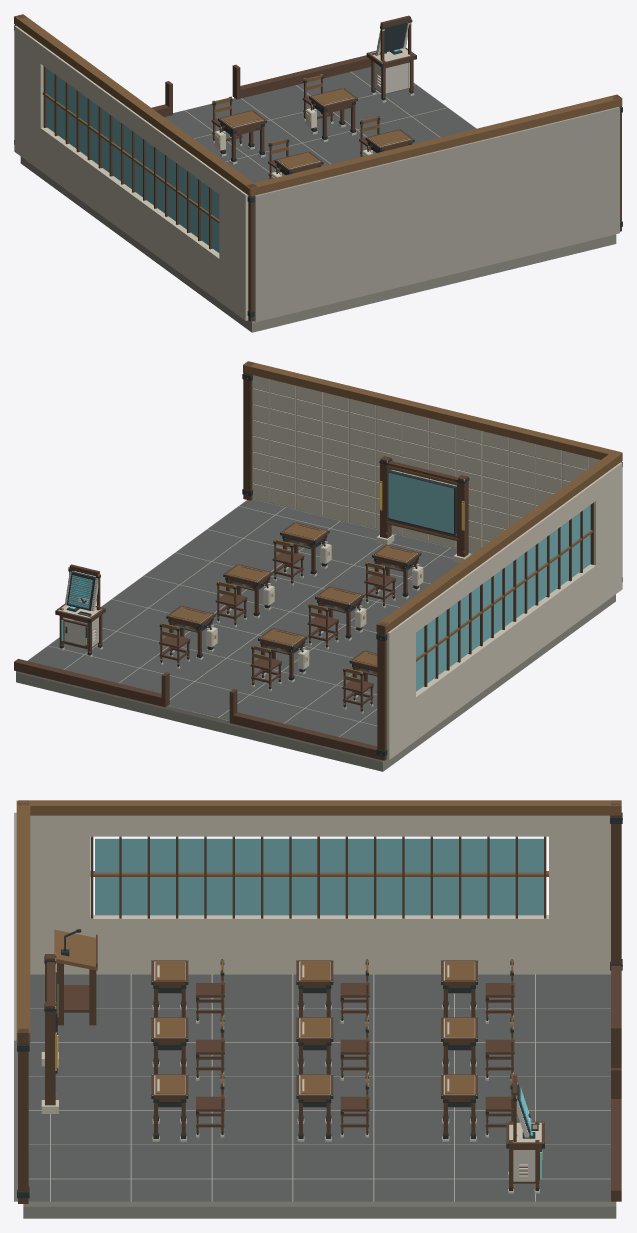
The model's file is visual-far.glb.
3 renders of one model, top to bottom at view 1: azimuth 30°, elevation 25°; view 2: azimuth 150°, elevation 25°; view 3: azimuth 270°, elevation 25°, orthographic. The views are drawn at different scales.
Parts seen in each view (by area): view 1: 真实窗洞、木梁与切角房间墙, 分层实心台基与独立石铺面, 教室桌椅排布接口 · 书封包布用途修正 (×4), 投票箱/核验台; view 2: 真实窗洞、木梁与切角房间墙, 分层实心台基与独立石铺面, 教室桌椅排布接口 · 书封包布用途修正 (×7), 公共公告屏/告示板, 投票箱/核验台; view 3: 分层实心台基与独立石铺面, 真实窗洞、木梁与切角房间墙, 教室桌椅排布接口 · 书封包布用途修正 (×9), 连续斜承稿台、开放后格与话筒, 投票箱/核验台, 公共公告屏/告示板.
Boxes of the visible parts, x1=… form: 真实窗洞、木梁与切角房间墙: x1=14, y1=14, x2=622, y2=321; 分层实心台基与独立石铺面: x1=20, y1=67, x2=616, y2=332; 教室桌椅排布接口 · 书封包布用途修正 (×4): x1=211, y1=74, x2=414, y2=178; 投票箱/核验台: x1=366, y1=15, x2=416, y2=102; 真实窗洞、木梁与切角房间墙: x1=14, y1=361, x2=622, y2=760; 分层实心台基与独立石铺面: x1=16, y1=499, x2=615, y2=771; 教室桌椅排布接口 · 书封包布用途修正 (×7): x1=159, y1=522, x2=423, y2=713; 公共公告屏/告示板: x1=376, y1=456, x2=471, y2=563; 投票箱/核验台: x1=55, y1=564, x2=105, y2=657; 分层实心台基与独立石铺面: x1=23, y1=974, x2=616, y2=1218; 真实窗洞、木梁与切角房间墙: x1=14, y1=800, x2=622, y2=1203; 教室桌椅排布接口 · 书封包布用途修正 (×9): x1=151, y1=958, x2=514, y2=1141; 连续斜承稿台、开放后格与话筒: x1=54, y1=929, x2=97, y2=1025; 投票箱/核验台: x1=506, y1=1075, x2=544, y2=1193; 公共公告屏/告示板: x1=41, y1=953, x2=58, y2=1113.
Bounding box in the file's own units: 8.24 × 3.08 × 9.04.
Materials: 21 (21 with a texture image).
